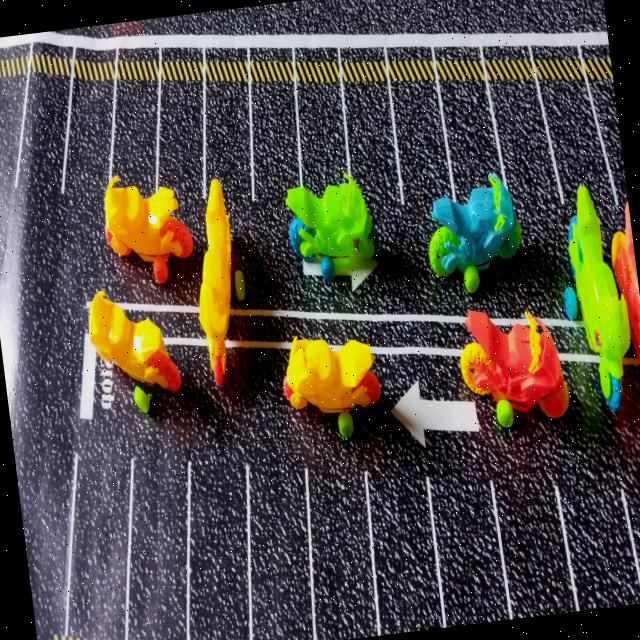bikes: (564, 186, 630, 411), (460, 309, 569, 427), (88, 290, 180, 412), (429, 173, 521, 292), (285, 173, 379, 281), (283, 336, 380, 438), (199, 179, 245, 385), (104, 176, 193, 282), (612, 201, 640, 362)
slots: (490, 80, 561, 244), (541, 79, 613, 236), (69, 453, 129, 640), (369, 477, 441, 632), (494, 479, 574, 617), (128, 453, 187, 640), (309, 473, 375, 640), (190, 453, 248, 640), (433, 481, 508, 625), (250, 466, 312, 640), (558, 484, 640, 607), (392, 82, 451, 215), (440, 75, 501, 200), (344, 80, 401, 205), (17, 71, 70, 194), (251, 82, 299, 215), (206, 81, 251, 210), (64, 77, 113, 195), (159, 73, 203, 198), (298, 81, 346, 193), (113, 80, 156, 194), (0, 74, 26, 197)
